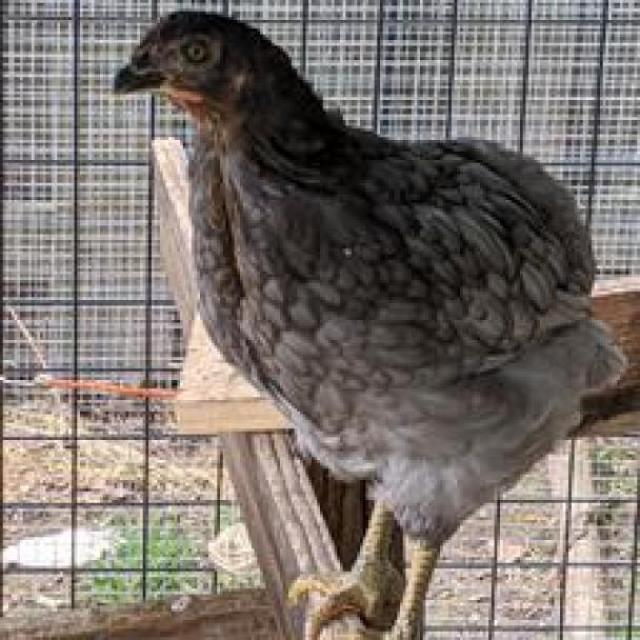Chicken: (71, 0, 621, 640)
